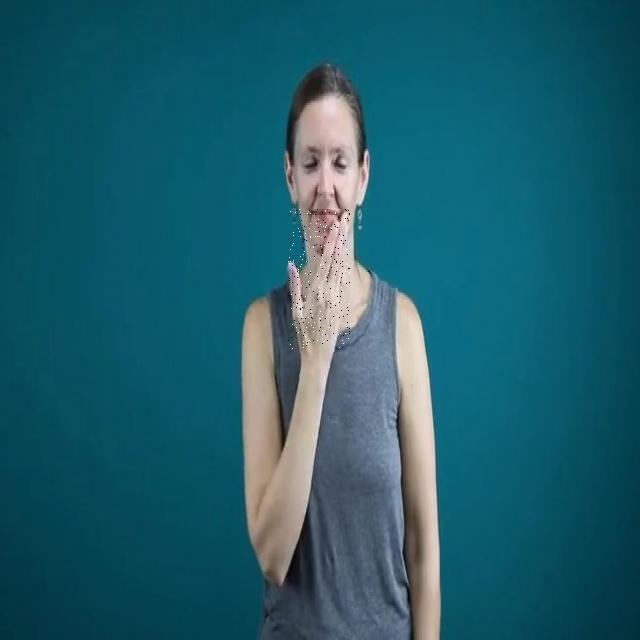napkin: (288, 210, 350, 350)
